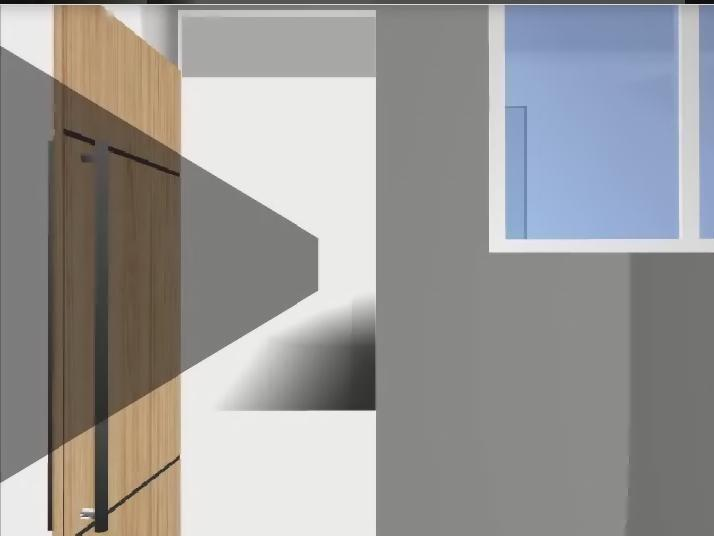door: (53, 5, 181, 536)
